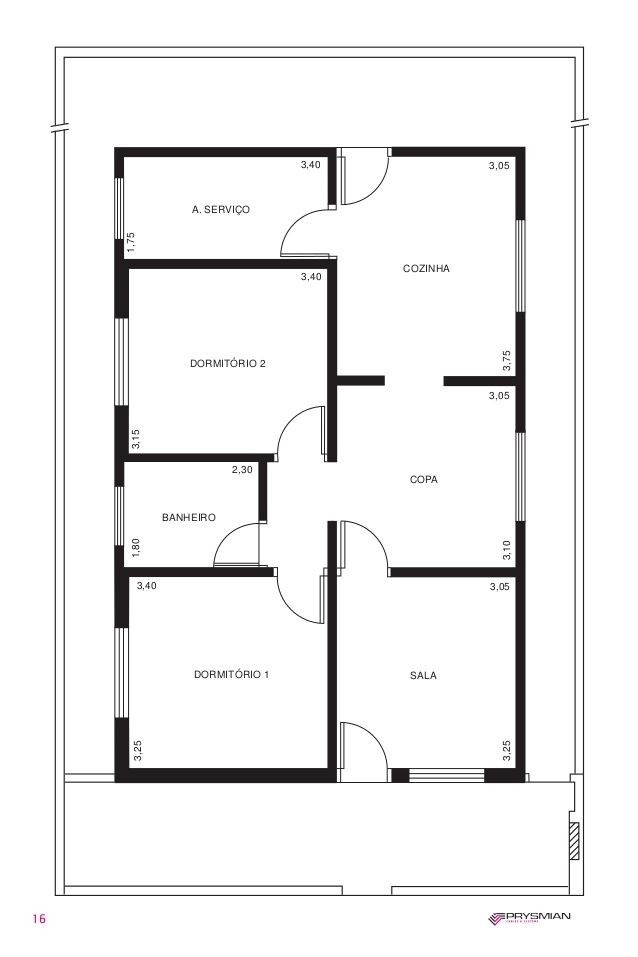door: (338, 707, 403, 784), (339, 504, 401, 582), (332, 143, 393, 214), (278, 195, 340, 263), (207, 510, 269, 570), (277, 563, 329, 633), (271, 399, 333, 455)
room: (116, 565, 345, 785), (114, 249, 336, 462), (339, 139, 517, 389), (333, 563, 520, 784), (327, 384, 523, 573), (117, 141, 342, 266), (123, 447, 269, 579)
wall: (113, 762, 336, 791), (111, 140, 338, 166), (511, 520, 533, 786), (126, 253, 343, 279), (326, 523, 342, 794), (323, 253, 343, 457), (126, 449, 277, 468), (393, 141, 523, 162), (123, 566, 272, 584), (388, 565, 526, 584), (110, 550, 139, 630), (511, 312, 530, 431), (111, 236, 132, 321), (442, 372, 523, 392), (110, 412, 132, 481), (248, 459, 272, 521), (511, 139, 529, 220), (113, 711, 132, 785), (330, 370, 384, 391), (487, 763, 529, 789)
window: (109, 315, 139, 414), (406, 757, 487, 788), (513, 433, 536, 537), (509, 224, 533, 318), (109, 627, 133, 721), (106, 484, 127, 543), (114, 179, 133, 243)
